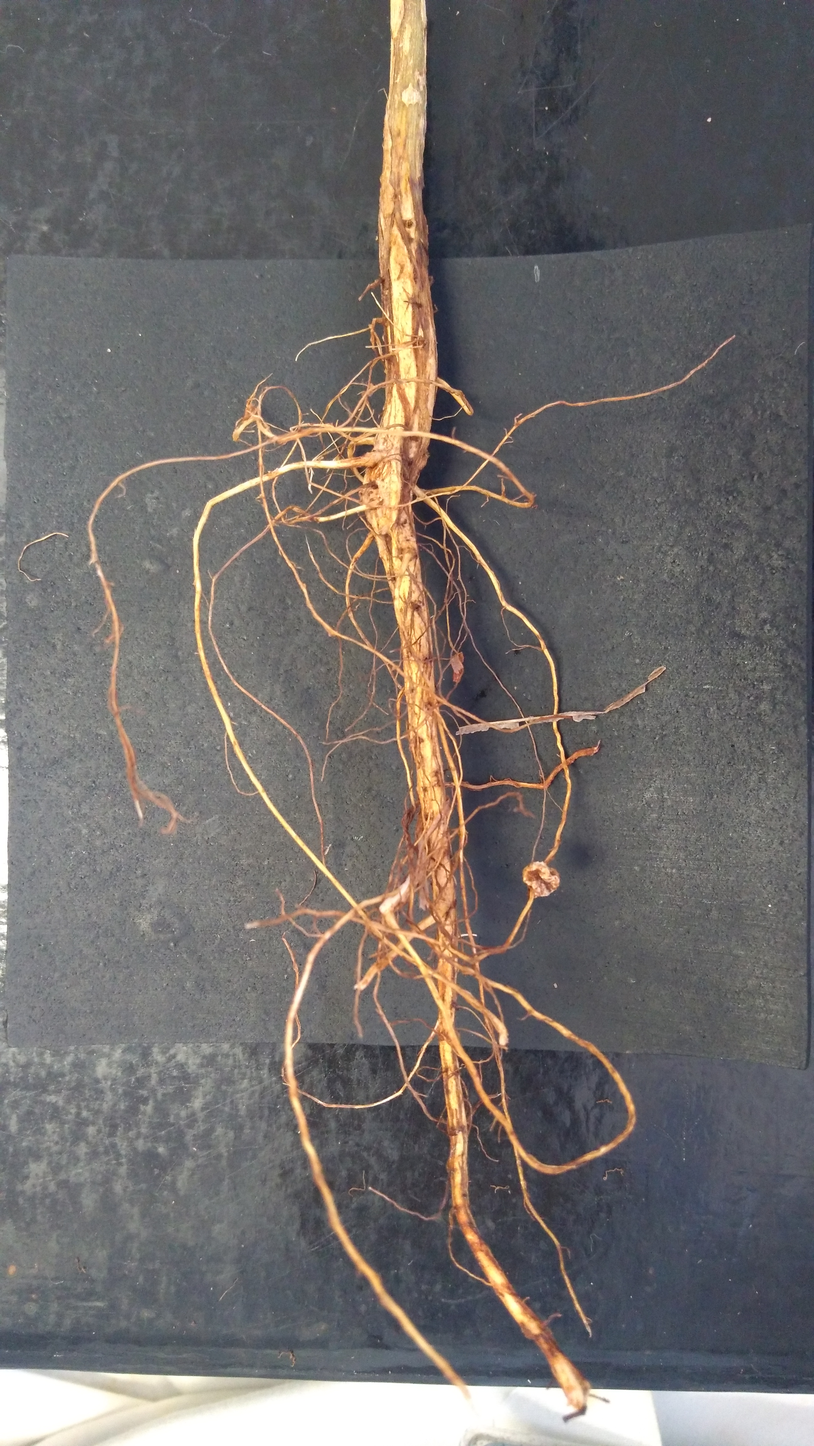nodule: (521, 861, 561, 898), (358, 487, 385, 509), (371, 517, 390, 535), (405, 440, 420, 460), (243, 403, 256, 419), (428, 275, 434, 286), (374, 279, 378, 283)
